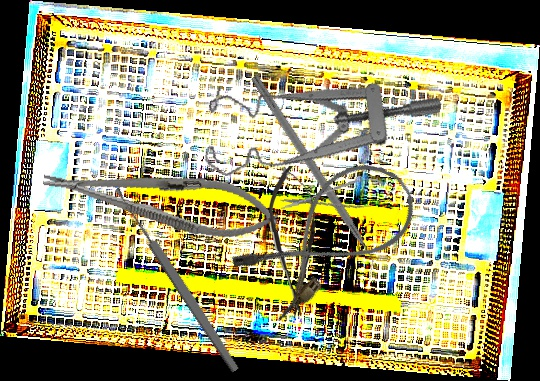Cannula: (226, 144, 430, 328)
Chopper: (239, 74, 386, 282)
Micro Scissor: (267, 164, 321, 318), (278, 174, 398, 219)
Needle Holder: (38, 148, 283, 250)
Speculum: (192, 41, 444, 225)
Surgical Spoon: (111, 184, 242, 375)
